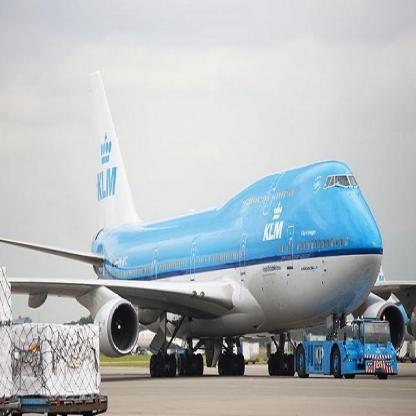CIV_Plane: (4, 68, 384, 376)
